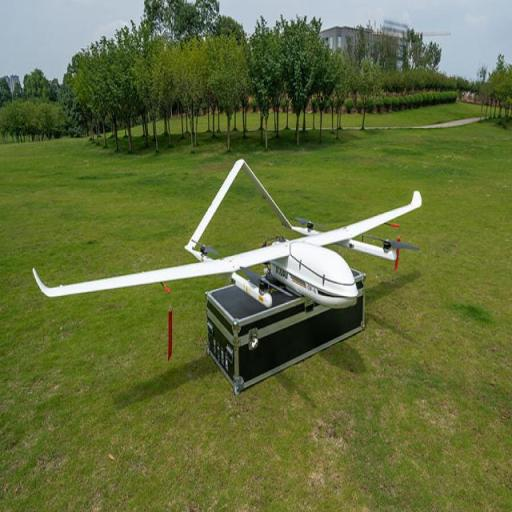uav: (26, 143, 440, 302)
